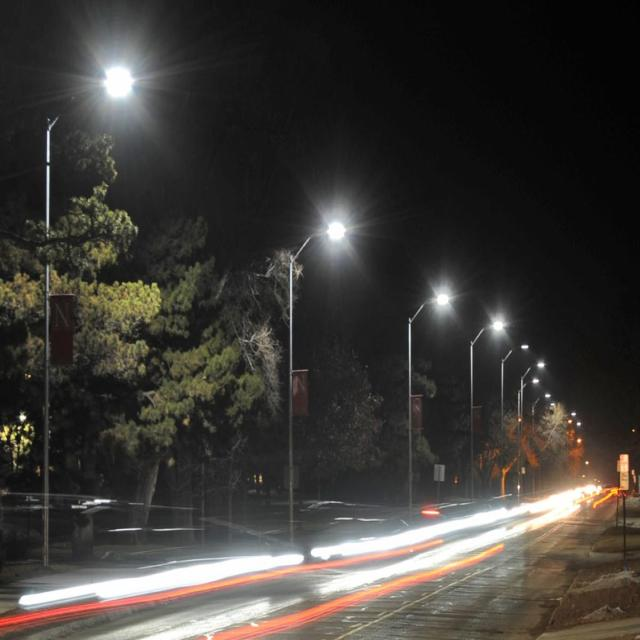Street Light: (42, 74, 131, 568), (288, 225, 346, 542), (407, 294, 450, 512), (470, 320, 504, 502), (501, 343, 529, 498), (520, 360, 544, 493)
